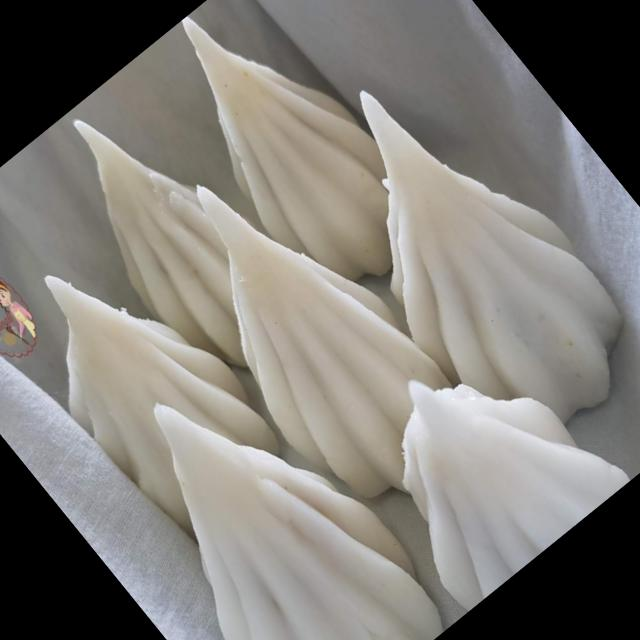modak: (276, 46, 640, 469), (125, 131, 482, 520), (85, 334, 467, 640), (128, 0, 448, 318), (0, 220, 297, 550), (323, 308, 632, 618), (24, 76, 314, 394)
